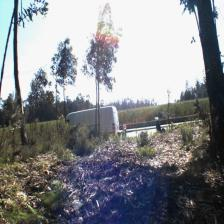trunktrack_idkeyframe: (200, 18, 223, 140), (7, 27, 24, 155)
